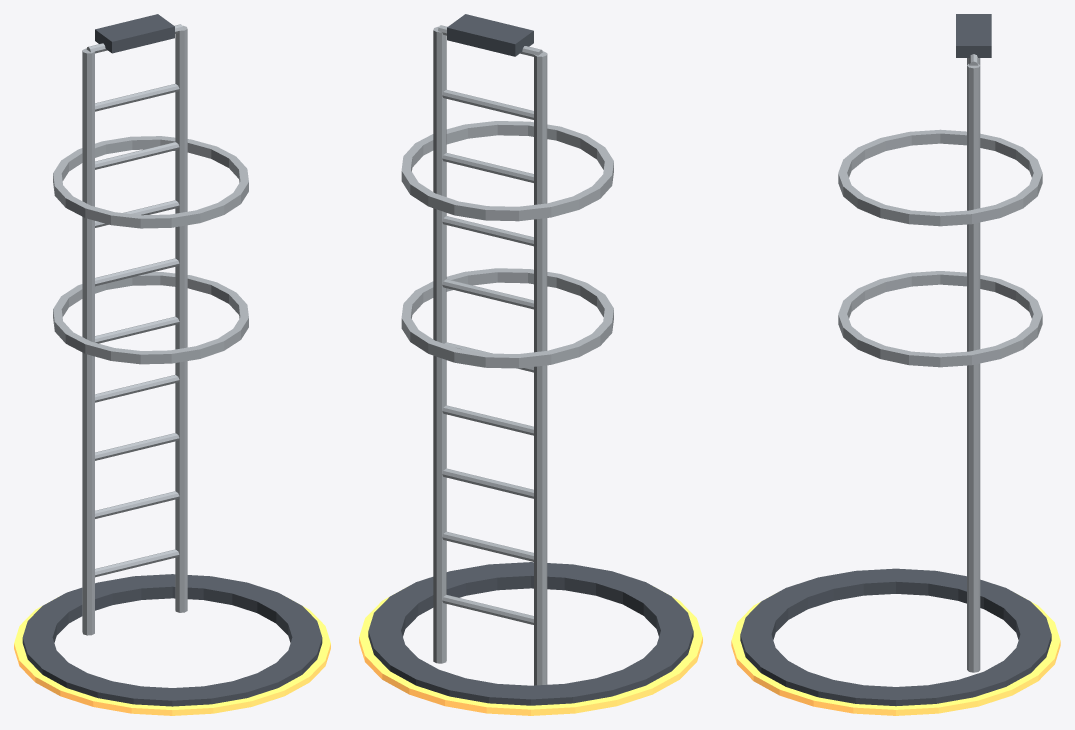
Rendered from spaceship-deck-kit-ladder-well-d28f5e38__12594.glb.
The picture shows the model from 3 angles, left to right: view 1: azimuth 30°, elevation 25°; view 2: azimuth 150°, elevation 25°; view 3: azimuth 270°, elevation 25°; orthographic projection. The views are drawn at different scales.
Visible parts, largest first — view 1: ladder-well; view 2: ladder-well; view 3: ladder-well.
Part boxes in pixels (x1,y1,x2,y2): ladder-well: (14, 14, 330, 715); ladder-well: (359, 14, 702, 715); ladder-well: (731, 14, 1060, 715).
Bounding box in the file's own units: 1.48 × 3.06 × 1.48.
